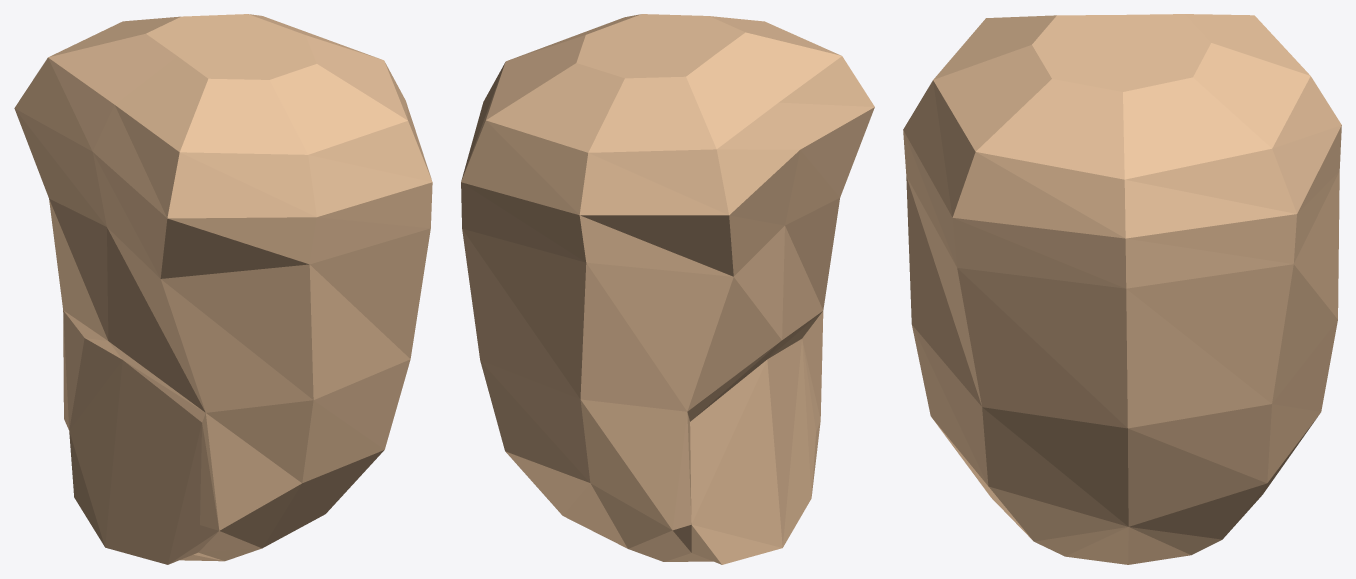
Rendered from RFing22_mesh.dae.
The picture shows the model from 3 angles, left to right: view 1: azimuth 30°, elevation 25°; view 2: azimuth 150°, elevation 25°; view 3: azimuth 270°, elevation 25°; orthographic projection. The views are drawn at different scales.
Visible parts, largest first — view 1: RFing22; view 2: RFing22; view 3: RFing22.
Part boxes in pixels (box(x1,y1,x2,y2)): RFing22: box(14, 14, 432, 564); RFing22: box(461, 14, 874, 564); RFing22: box(903, 14, 1341, 564).
Size of the model in its own units: 0.0138 by 0.0208 by 0.0157.
